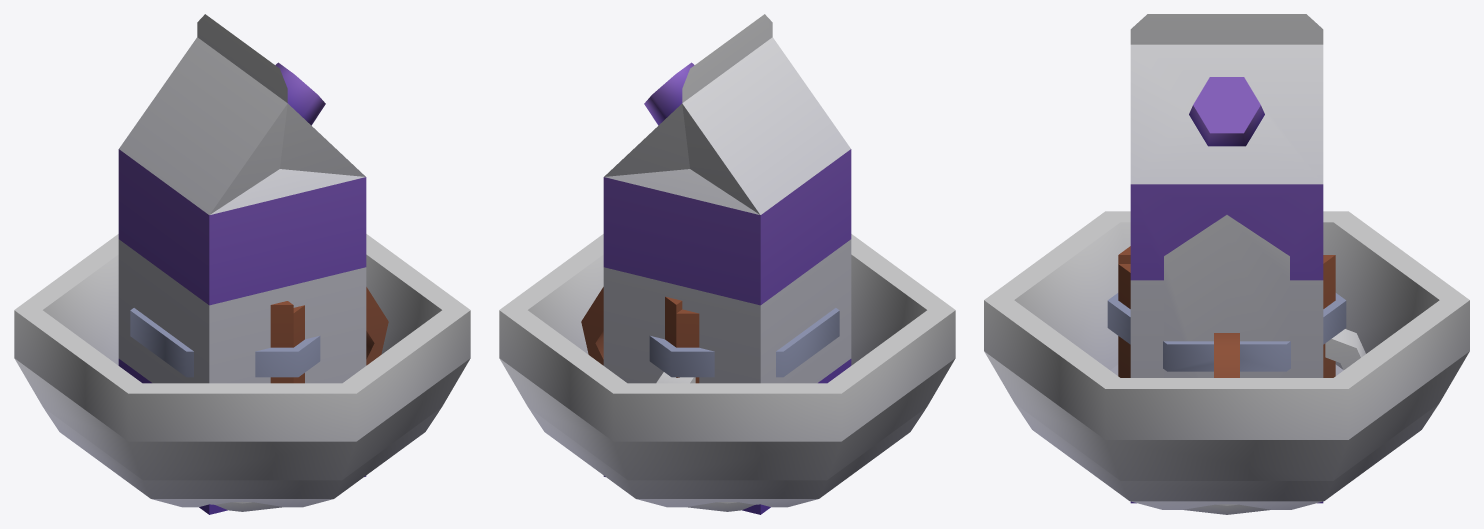
File: eten.glb
The picture shows the model from 3 angles, left to right: view 1: azimuth 30°, elevation 25°; view 2: azimuth 150°, elevation 25°; view 3: azimuth 270°, elevation 25°; orthographic projection. The views are drawn at different scales.
Visible parts, largest first — view 1: carton, bowl, mug; view 2: carton, bowl, mug; view 3: bowl, carton, mug, cup-tea, cup-saucer.
Boxes of the visible parts, x1,y1,x2,y2 form: carton: (118, 14, 366, 514); bowl: (14, 234, 470, 507); mug: (130, 287, 388, 383); carton: (603, 14, 851, 514); bowl: (499, 234, 955, 507); mug: (581, 287, 839, 383); bowl: (984, 211, 1469, 509); carton: (1130, 14, 1323, 503); mug: (1107, 246, 1346, 377); cup-tea: (1325, 329, 1365, 369); cup-saucer: (1183, 504, 1270, 514).
Size of the model in its own units: 0.5022 by 0.5906 by 0.5798.
